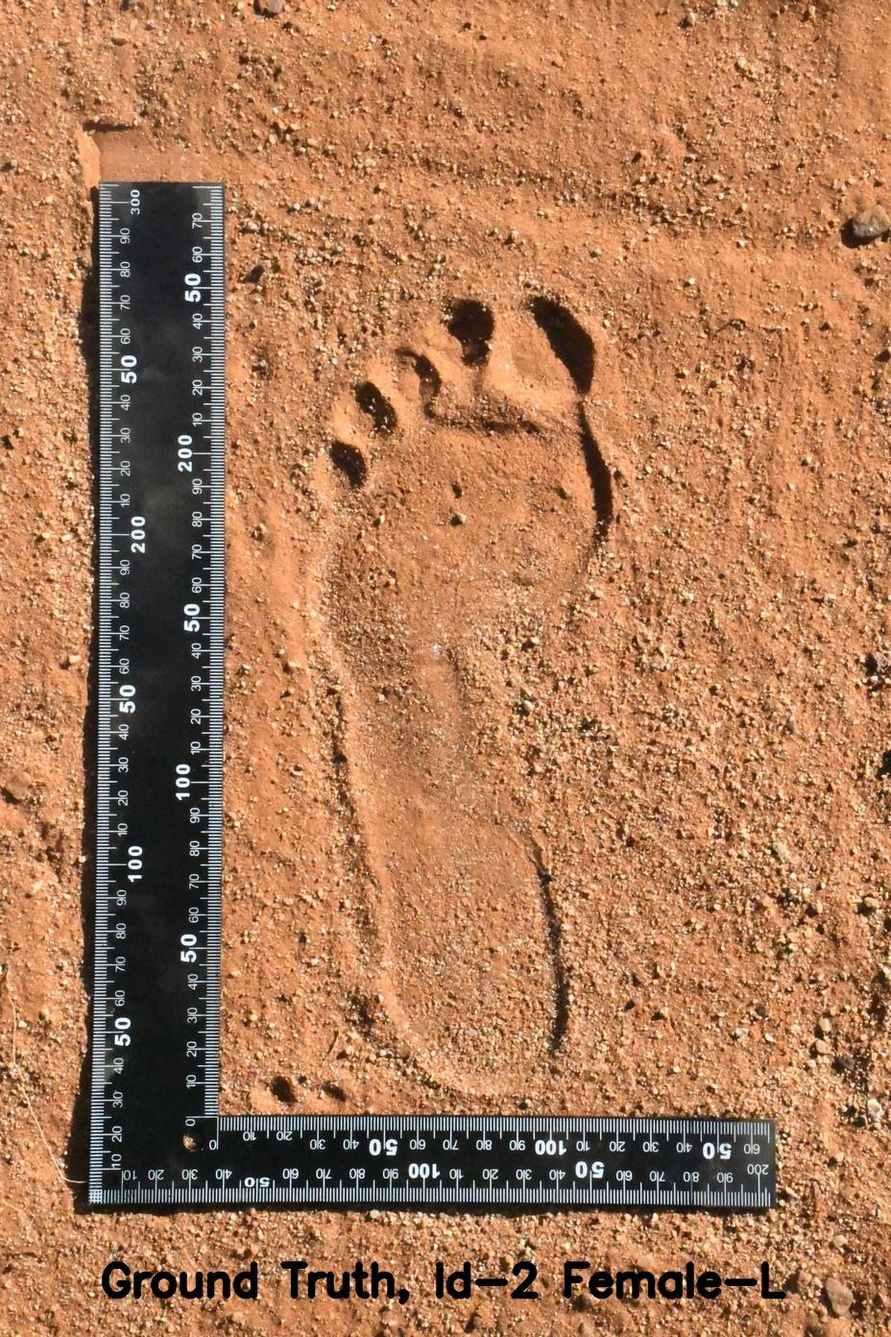human_foot_print: (269, 234, 654, 1111)
